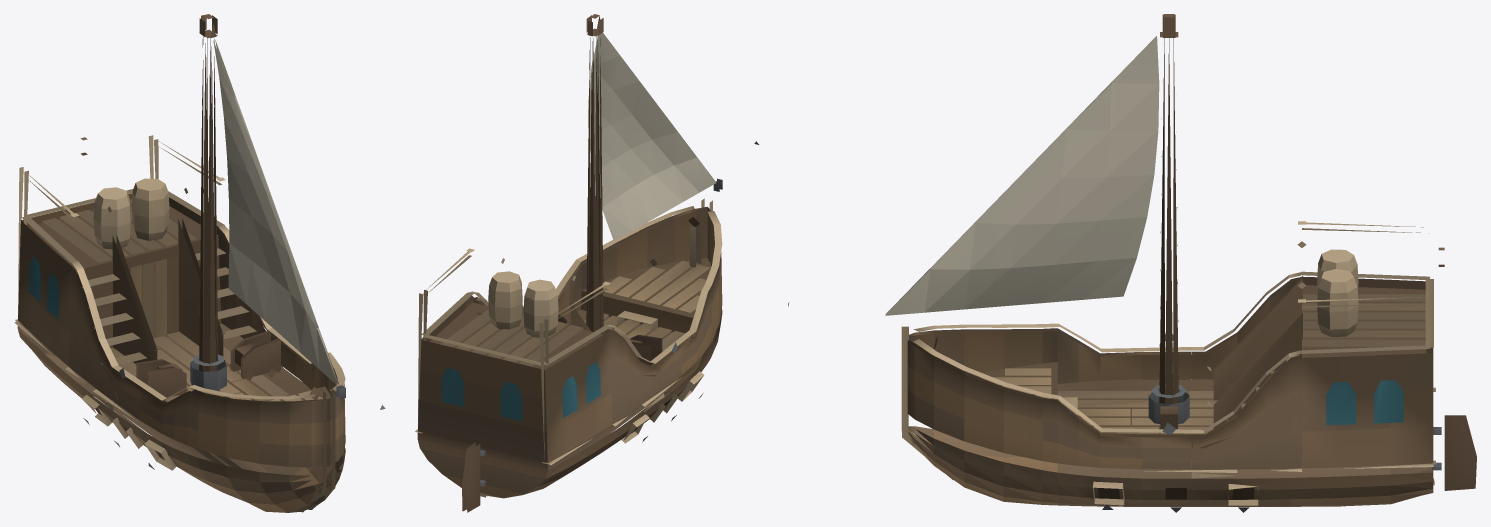
File: sloop.lod.glb
3 renders of one model, left to right at view 1: azimuth 30°, elevation 25°; view 2: azimuth 150°, elevation 25°; view 3: azimuth 270°, elevation 25°, orthographic. The views are drawn at different scales.
Visible parts, largest first — view 1: sloop; view 2: sloop; view 3: sloop.
Part boxes in pixels (left/top/right/bottom): sloop: left=14, top=14, right=385, bottom=512; sloop: left=415, top=14, right=758, bottom=512; sloop: left=788, top=14, right=1476, bottom=512.
Size of the model in its own units: 3.18 by 7.49 by 9.7.
